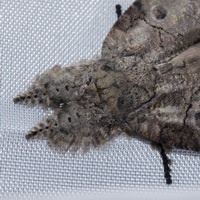insect: (13, 0, 199, 183)
